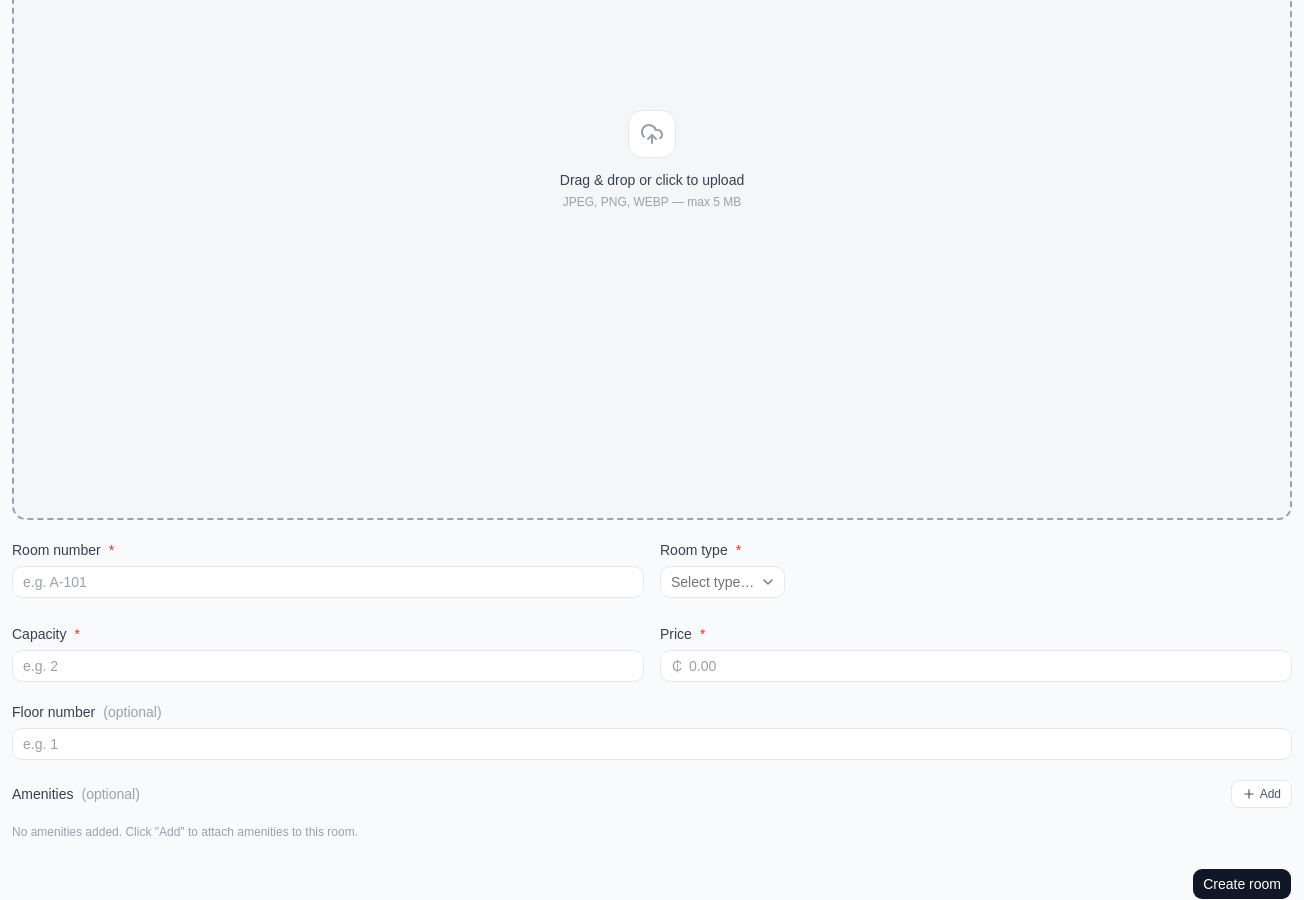
Test: CreateRoomForm › adds and removes amenity rows via the field array
(page scrolled)
Step 1. Click the button "Add" → (1261, 794), box [1231,780,1292,808]
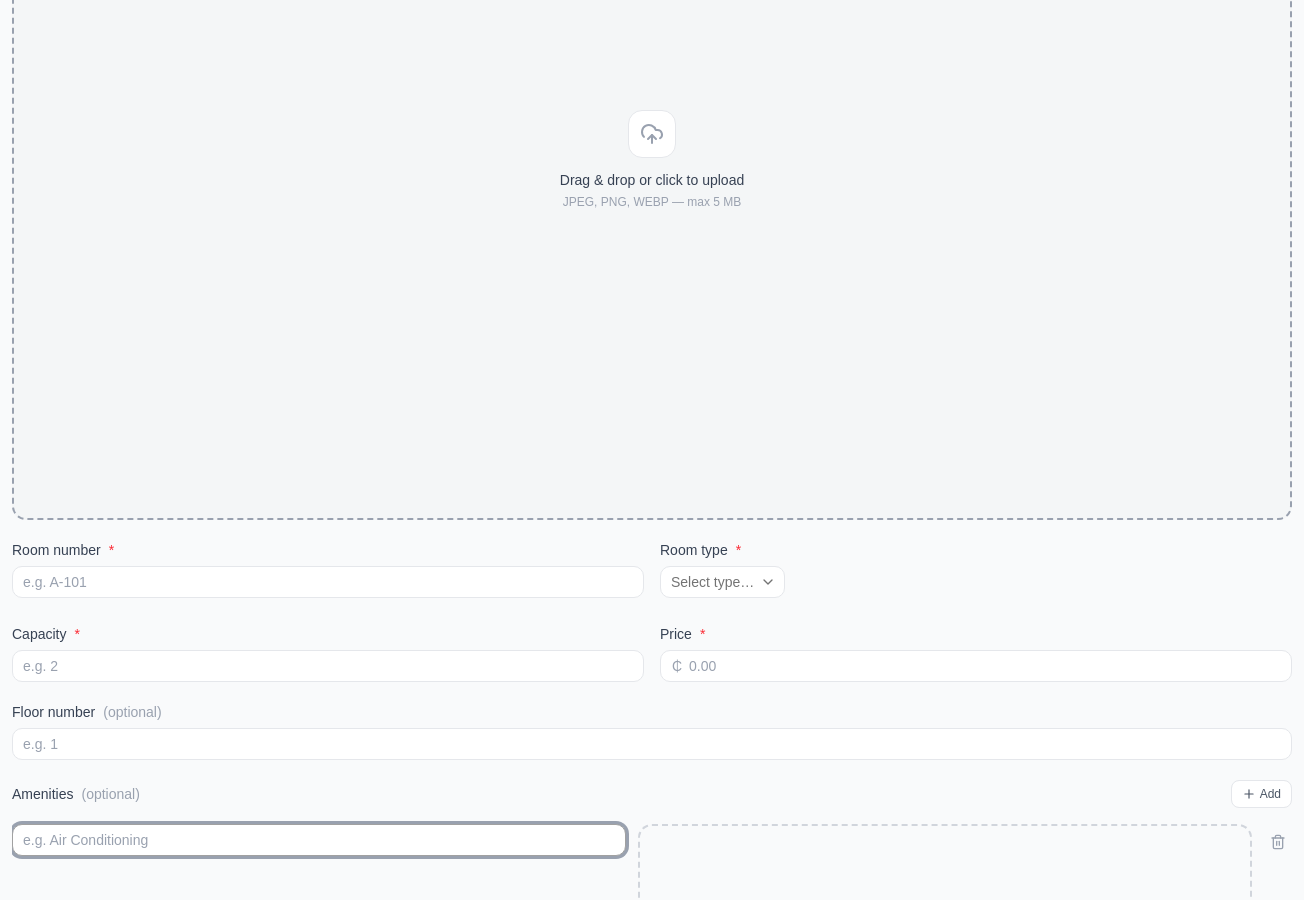
Result: the field with placeholder "e.g. Air Conditioning" is shown at [12,824,626,856]
Step 2. Click the button named "remove amenity 1" → (1278, 842), box [1264,828,1292,856]
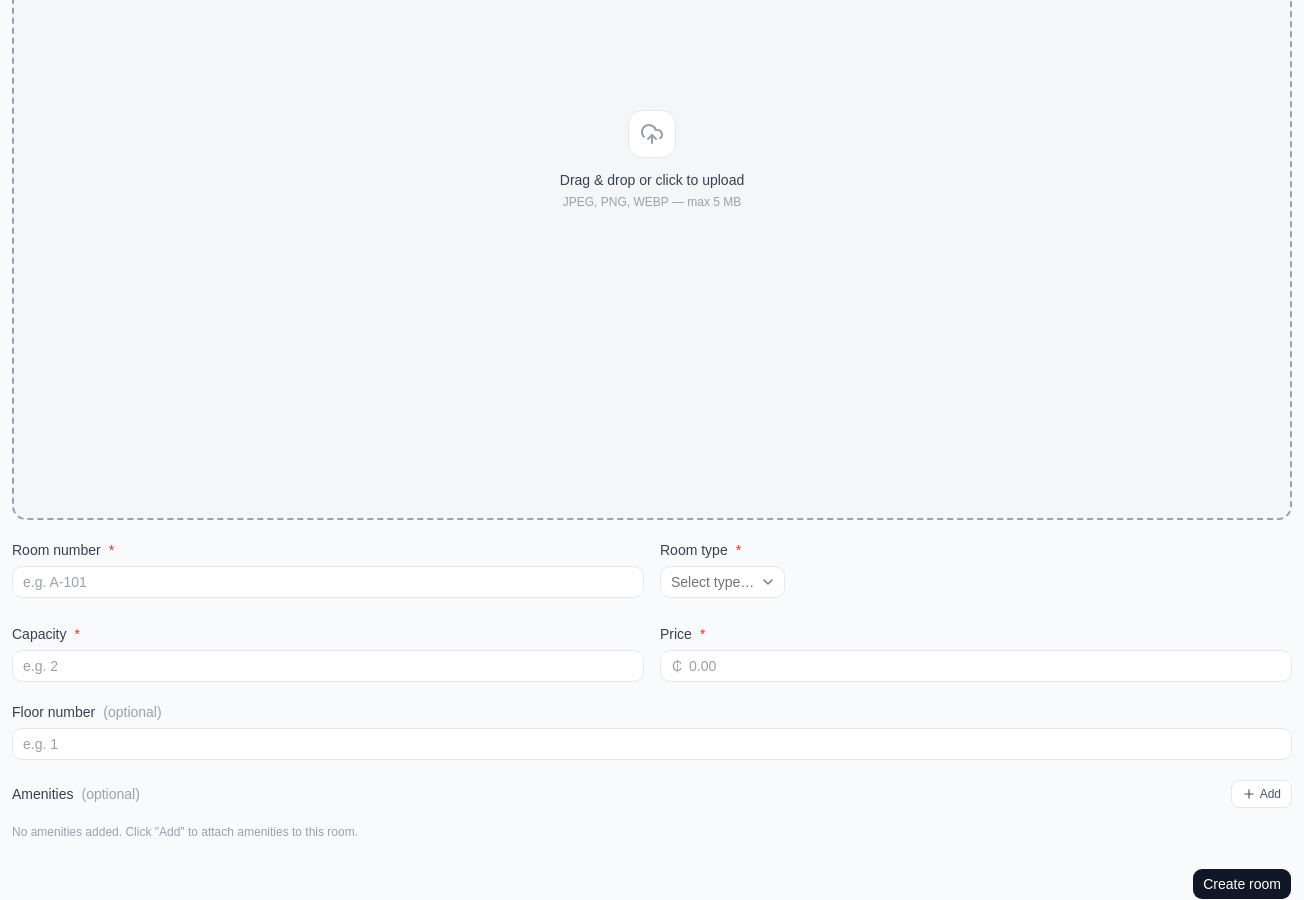
Expected: the field with placeholder "e.g. air conditioning" is not shown
Result: the text "No amenities added" is shown at [12,825,358,839]
